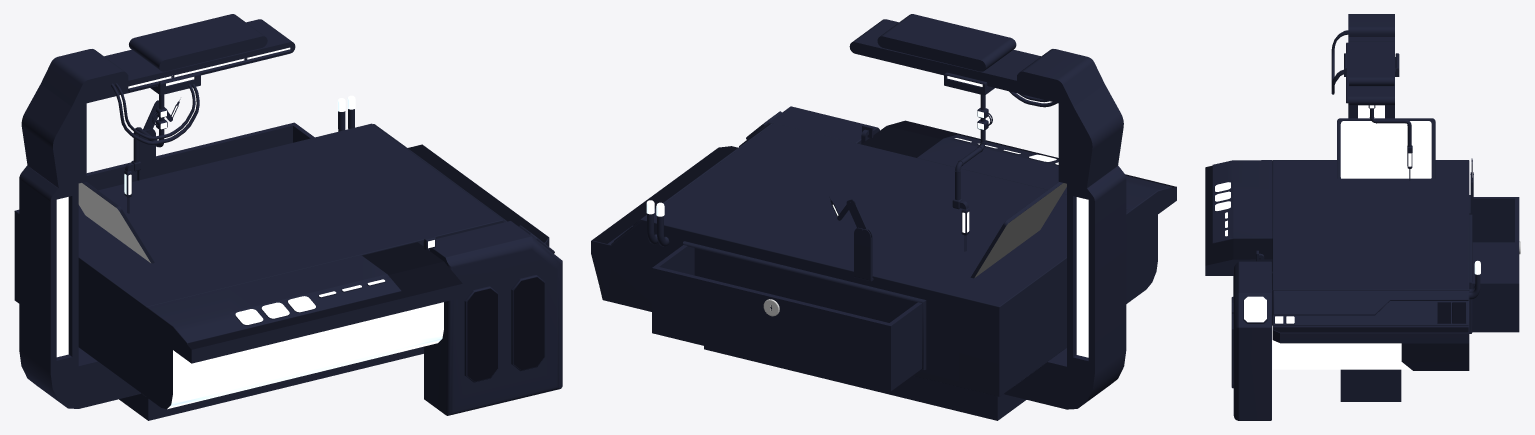
Rendered from tableAnimation.fbx.
The picture shows the model from 3 angles, left to right: view 1: azimuth 30°, elevation 25°; view 2: azimuth 150°, elevation 25°; view 3: azimuth 270°, elevation 25°; orthographic projection. The views are drawn at different scales.
Visible parts, largest first — view 1: body, holder, side_part, Cube8, laser_controler_0006:pCube3, laser_controler_0006:pCube5, laser_controler_0006:pCube13, wire1, Cube9, laser_controler_0006:pCube17, wire; view 2: body, holder, laser_controler_0006:pCube3, Cube8, laser_controler_0006:pCube5, side_part, laser_controler_0006:pCube13, Cube9, laser_controler_0006:pCube17; view 3: body, side_part, laser_controler_0006:pCube3, laser_controler_0006:pCube6, holder, Cube8, laser_controler_0006:pCube5.
Boxes of the visible parts, box(x1,y1,x2,y2) form: body: box(14, 123, 549, 420); holder: box(19, 19, 295, 408); side_part: box(424, 221, 562, 415); Cube8: box(129, 14, 267, 71); laser_controler_0006:pCube3: box(86, 122, 314, 190); laser_controler_0006:pCube5: box(78, 182, 154, 263); laser_controler_0006:pCube13: box(137, 128, 155, 180); wire1: box(111, 83, 199, 144); Cube9: box(150, 72, 200, 95); laser_controler_0006:pCube17: box(124, 127, 140, 213); wire: box(115, 83, 195, 139); body: box(591, 120, 1176, 420); holder: box(849, 19, 1126, 409); laser_controler_0006:pCube3: box(652, 245, 922, 391); Cube8: box(877, 14, 1016, 71); laser_controler_0006:pCube5: box(970, 182, 1066, 278); side_part: box(739, 106, 879, 146); laser_controler_0006:pCube13: box(854, 227, 873, 281); Cube9: box(944, 72, 994, 95); laser_controler_0006:pCube17: box(952, 161, 969, 251); body: box(1205, 160, 1472, 401); side_part: box(1231, 261, 1271, 420); laser_controler_0006:pCube3: box(1472, 197, 1519, 332); laser_controler_0006:pCube6: box(1340, 121, 1431, 178); holder: box(1346, 14, 1394, 118); Cube8: box(1349, 41, 1394, 86); laser_controler_0006:pCube5: box(1337, 118, 1435, 178).
Size of the model in its own units: 11.08 by 8.21 by 8.96.
